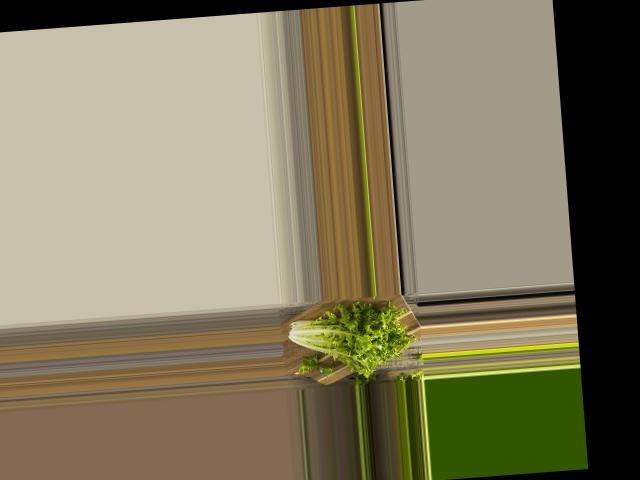lettuce: (279, 298, 412, 381)
